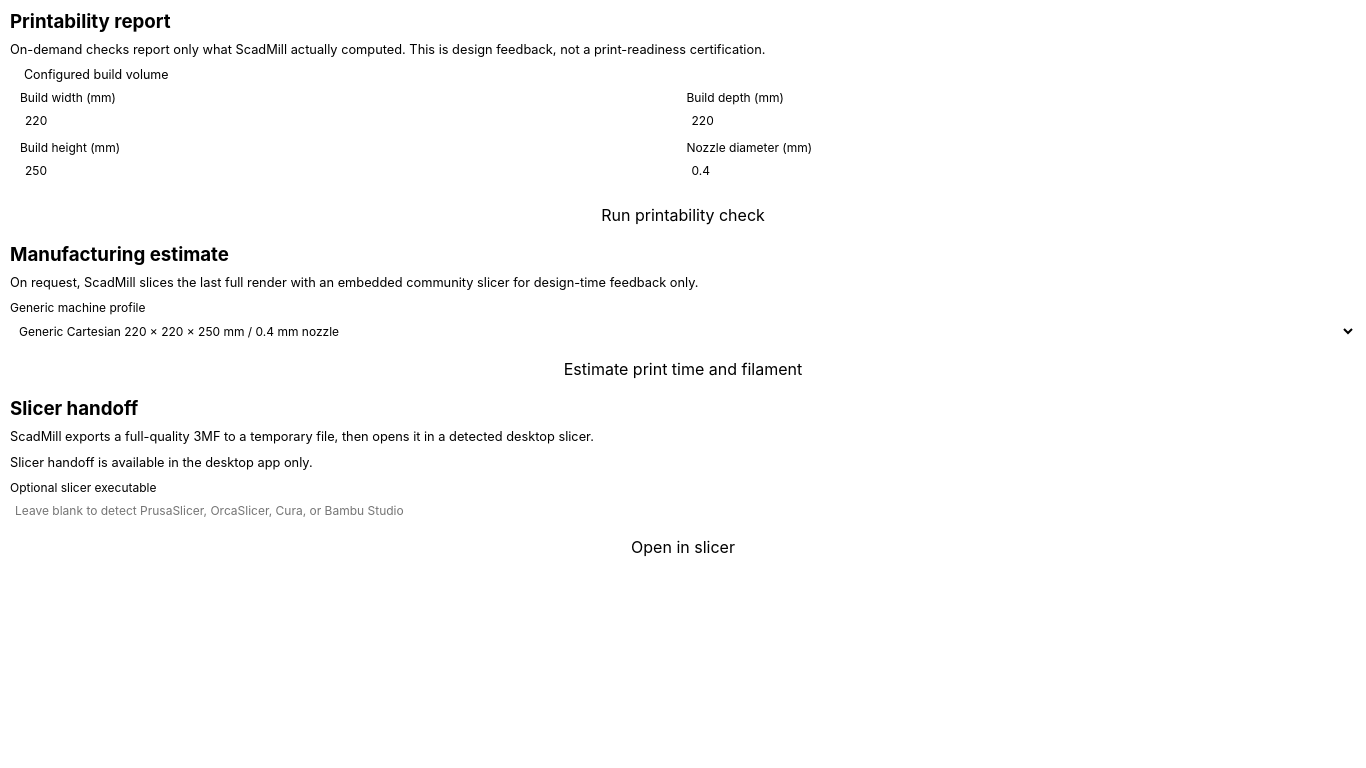
Test case: ManufacturingActivity › runs the AC-15.n design-time estimate only on explicit request with honest labels
This screenshot has width=1366, height=768.
Click the button "Estimate print time and filament". click: [683, 369]
box: x1=10 y1=353 x2=1356 y2=385
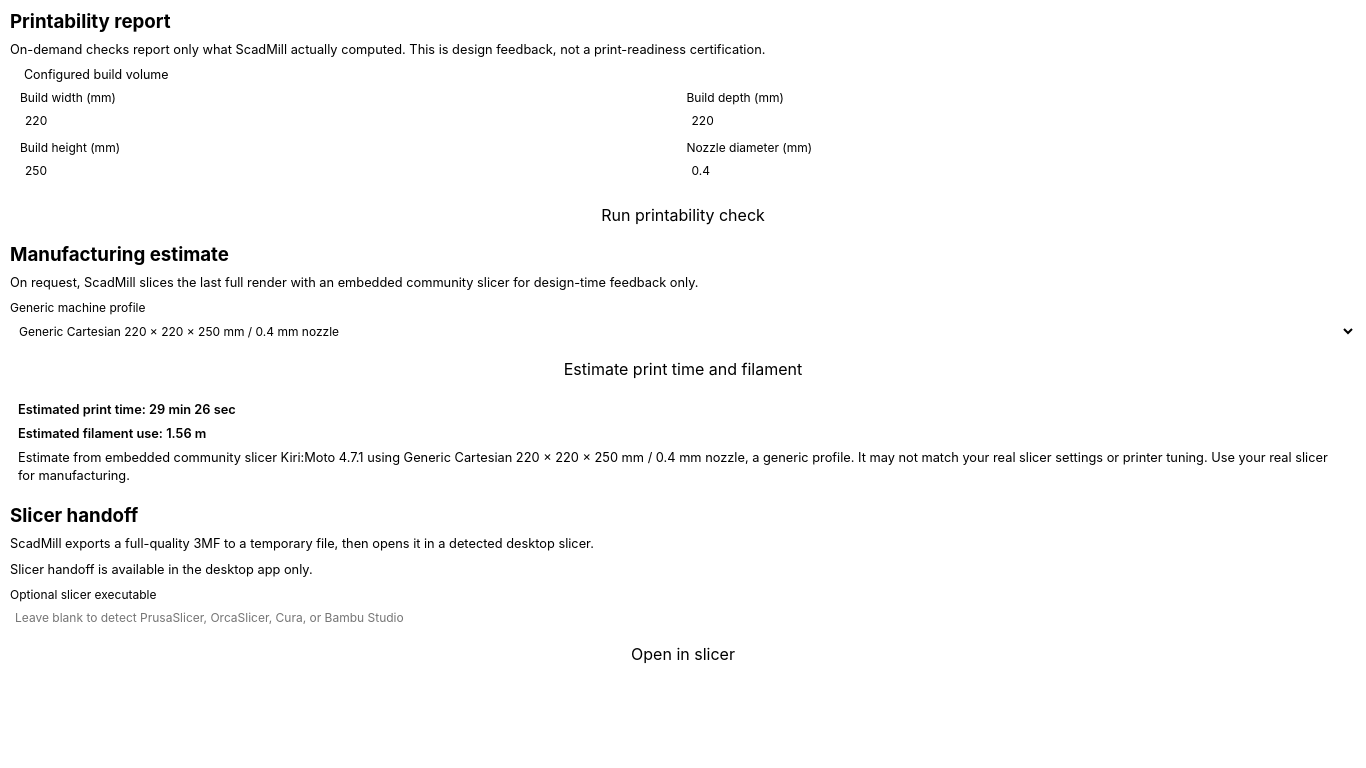
Check: the text "Estimated print time: 29 min 26 sec" is shown, box x1=18 y1=402 x2=236 y2=417
Check: the text "Estimated filament use: 1.56 m" is shown, box x1=18 y1=426 x2=206 y2=441
